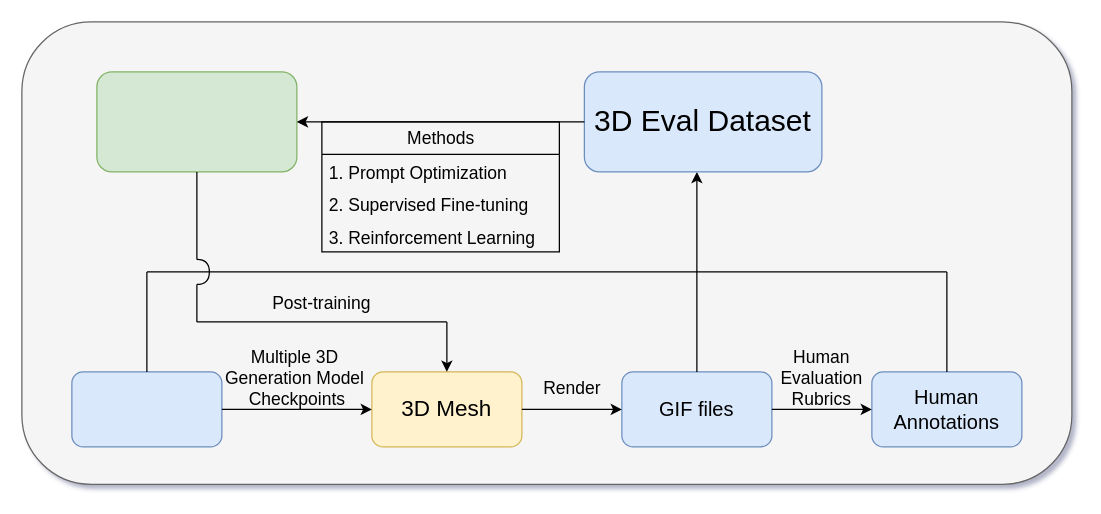
Image size: 1101x514. Some labels were removed from this diagram. Here are the shapes that lost their labels. From the top down, the centre of each, then its label:
point 196,121: VLM-as-a-judge
point 146,409: Selected Prompts
